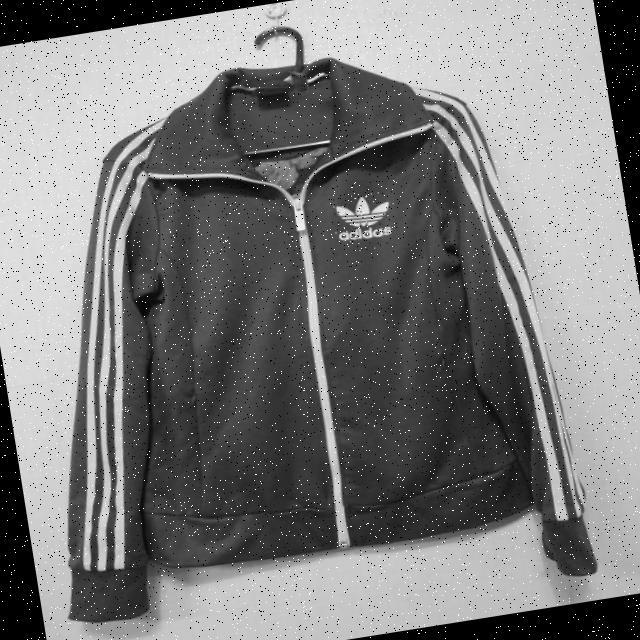Adidas: (330, 188, 400, 254)
